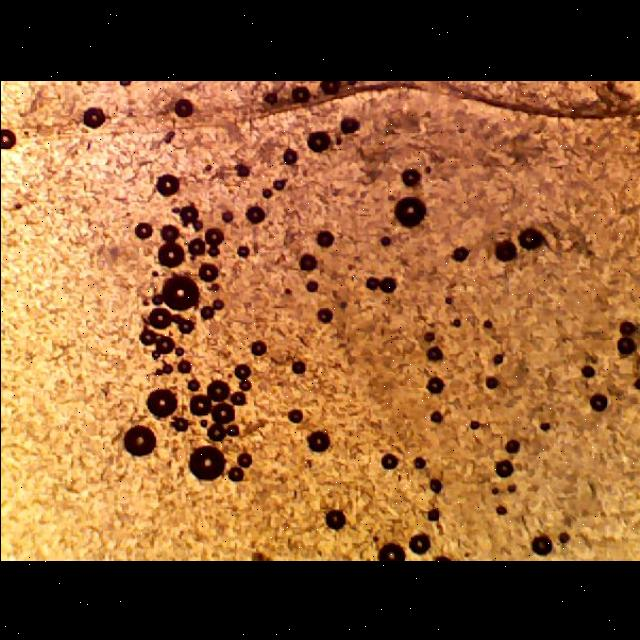microbeads: (160, 272, 200, 312), (186, 444, 224, 482), (392, 193, 428, 229), (120, 422, 156, 456), (153, 173, 179, 197), (378, 540, 404, 560)
